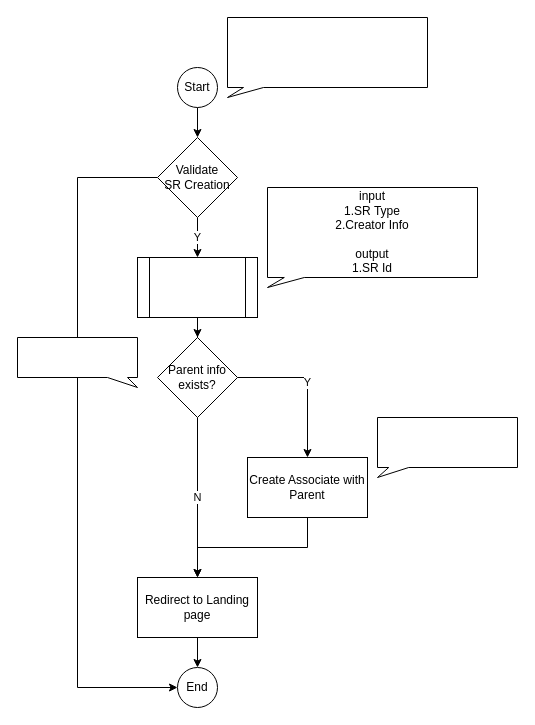
Some shapes in this 535 by 725 pixel diagram are drawn without their labels. The shapes that lost their labels are listed below. From the top down, each one's centre as x and y in pixels, then its label:
pixel 327 57: input 1.SR Type 2.Parent SR Id (Optional) 3.Creator info (Session)
pixel 197 287: Create SR
pixel 77 362: Is Parent SR Id is not null
pixel 447 447: input 1.SR Id 2.Parent SR Id
